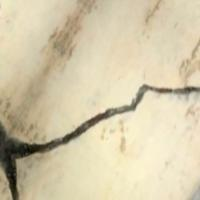crack: (2, 59, 199, 199)
